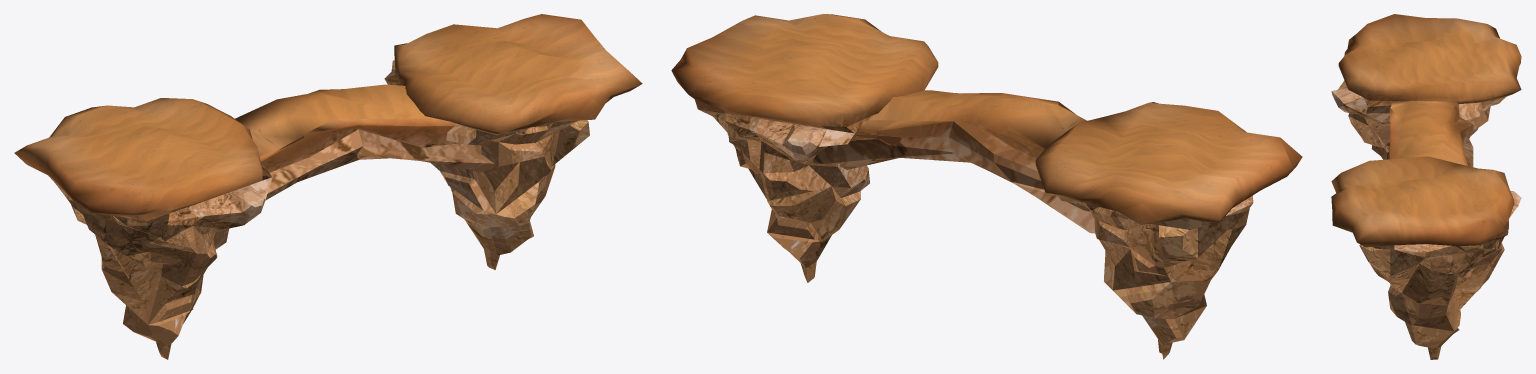
Rendered from Floating_island_bridge.obj.
3 views of the same model, side by side, from view 1: azimuth 30°, elevation 25°; view 2: azimuth 150°, elevation 25°; view 3: azimuth 270°, elevation 25° (orthographic). The views are drawn at different scales.
Parts seen in each view (by area): view 1: flotting_island_bridge001; view 2: flotting_island_bridge001; view 3: flotting_island_bridge001.
Part boxes in pixels (x1,y1,x2,y2): flotting_island_bridge001: (14,14,642,359); flotting_island_bridge001: (671,14,1302,359); flotting_island_bridge001: (1331,14,1521,359).
Size of the model in its own units: 108 by 40.46 by 39.48.
